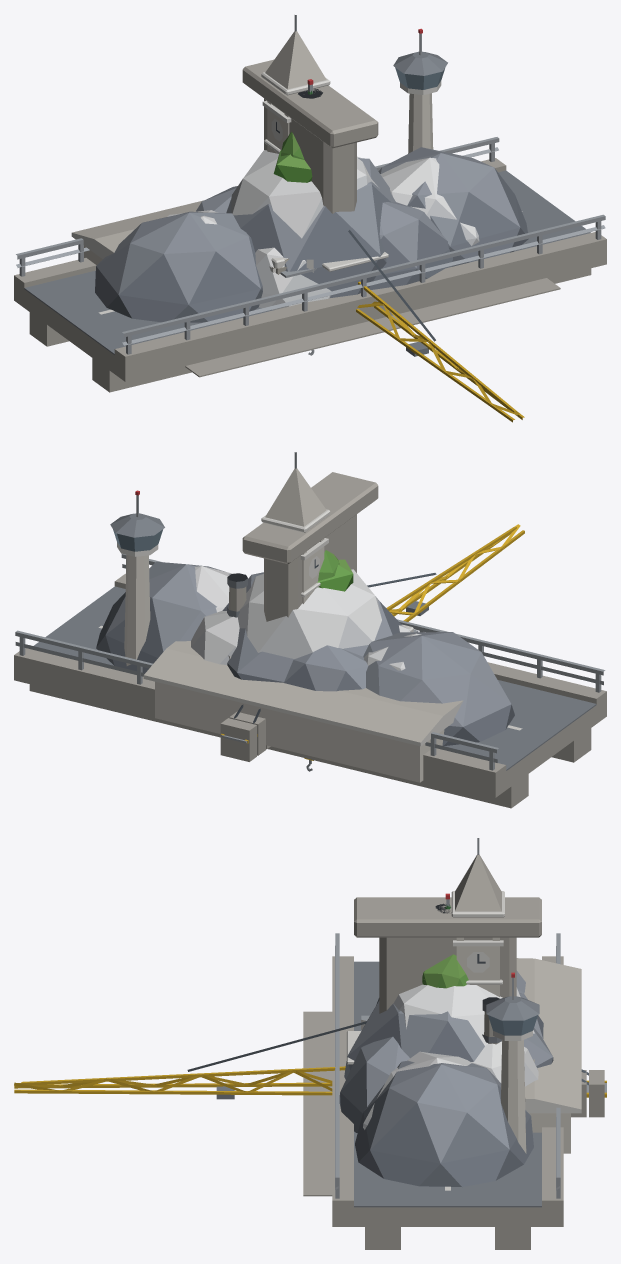
The model's file is kit.glb.
The picture shows the model from 3 angles, top to bottom: view 1: azimuth 30°, elevation 25°; view 2: azimuth 150°, elevation 25°; view 3: azimuth 270°, elevation 25°; orthographic projection. The views are drawn at different scales.
Visible parts, largest first — view 1: bridge_span, rain_cloud, airport, cloud, bridge_pier, crane_top, hall, tree_round; view 2: bridge_span, airport, rain_cloud, cloud, bridge_pier, crane_top, hall, factory_roof, tree_round; view 3: rain_cloud, bridge_span, airport, bridge_pier, crane_top, cloud, hall, tree_birch.
Part boxes in pixels (x1,y1,x2,y2): bridge_span: (14, 137, 606, 392); rain_cloud: (95, 147, 528, 322); airport: (71, 28, 560, 377); cloud: (167, 150, 479, 309); bridge_pier: (242, 59, 378, 213); crane_top: (348, 230, 524, 422); hall: (261, 15, 330, 153); tree_round: (273, 150, 312, 182); bridge_span: (14, 554, 606, 808); airport: (110, 490, 463, 782); rain_cloud: (96, 561, 514, 746); cloud: (191, 566, 421, 670); bridge_pier: (242, 472, 378, 621); crane_top: (220, 524, 524, 761); hall: (261, 452, 330, 603); factory_roof: (227, 573, 247, 617); tree_round: (317, 559, 353, 591); rain_cloud: (339, 970, 553, 1186); bridge_span: (332, 933, 563, 1249); airport: (303, 958, 581, 1196); bridge_pier: (354, 897, 541, 1013); crane_top: (14, 1021, 606, 1117); cloud: (363, 984, 538, 1129); hall: (451, 838, 504, 996); tree_birch: (422, 954, 468, 988).
Bounding box in the file's own units: 8 × 5.24 × 8.2.
